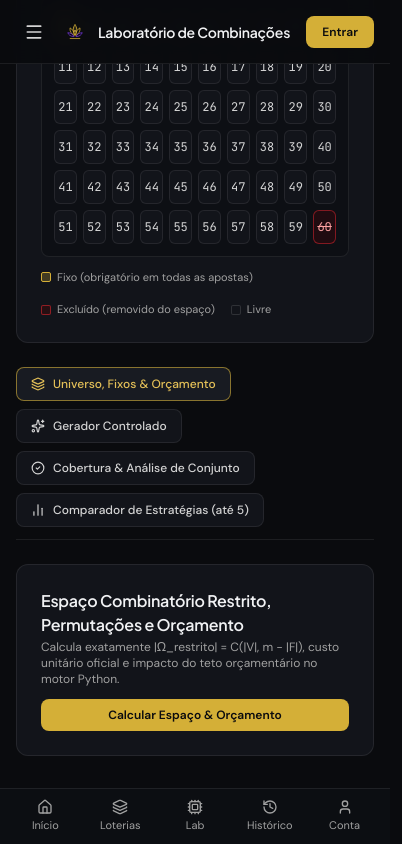
Test case: Unitários UI — Etapa 3: Laboratório de Combinações › opera matriz de fixos/excluídos, universo restrito, gerador controlado, cobertura e comparador de estratégias
Earlier steps of the test are not shown.
(page scrolled)
Expected: the button named "Dezena 60 (Excluída)" is shown, [313,210,336,244]
Click the button "Calcular Espaço & Orçamento".
click(195, 715)  # box [41,699,349,731]
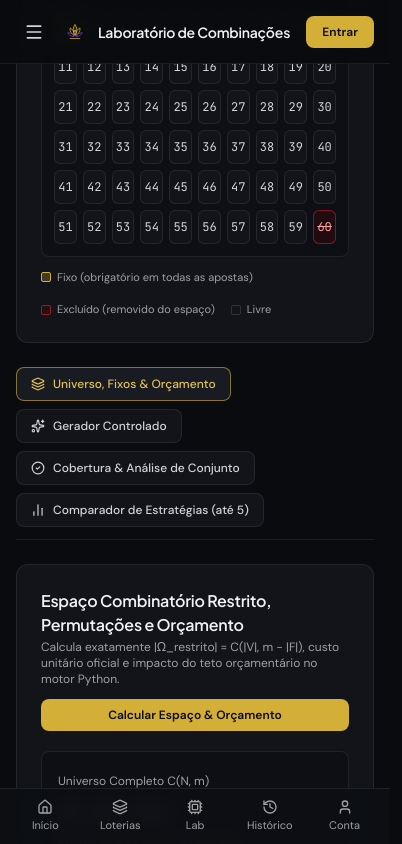
Click the tab "Gerador Controlado".
click(99, 426)  # box [16,409,182,443]
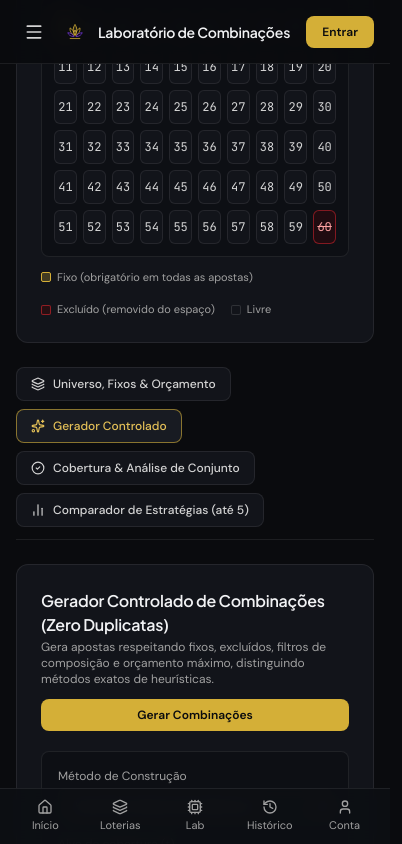
Click the button "Gerar Combinações".
click(195, 715)  # box [41,699,349,731]
(page scrolled)
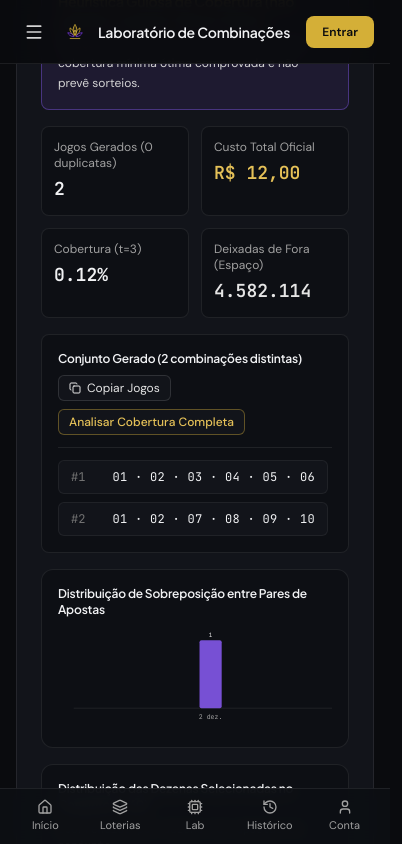
Click the button "Analisar Cobertura Completa".
click(152, 422)  # box [58,409,245,435]
(page scrolled)
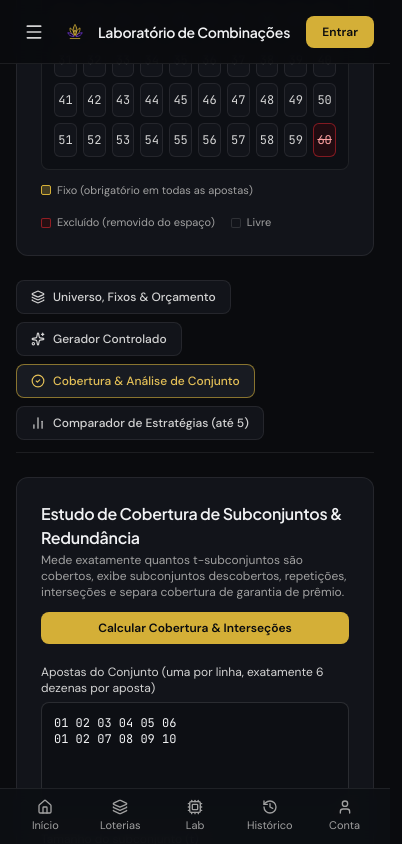
Click the tab "Comparador de Estratégias (até 5)".
click(140, 423)  # box [16,406,264,440]
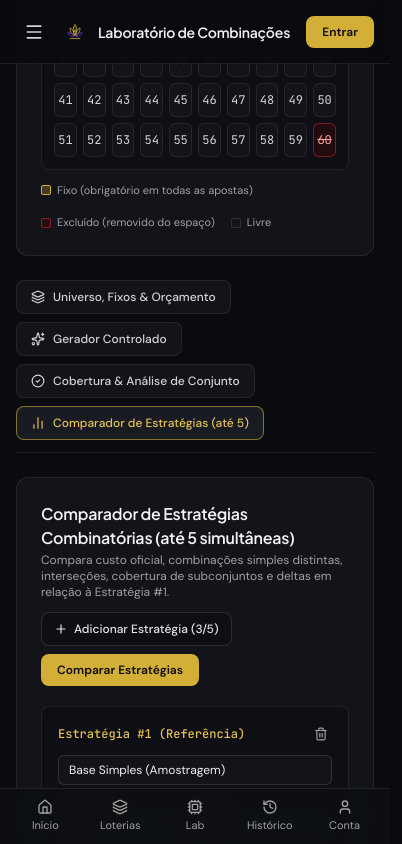
Click the button "Comparar Estratégias".
click(120, 670)  # box [41,654,199,686]
(page scrolled)
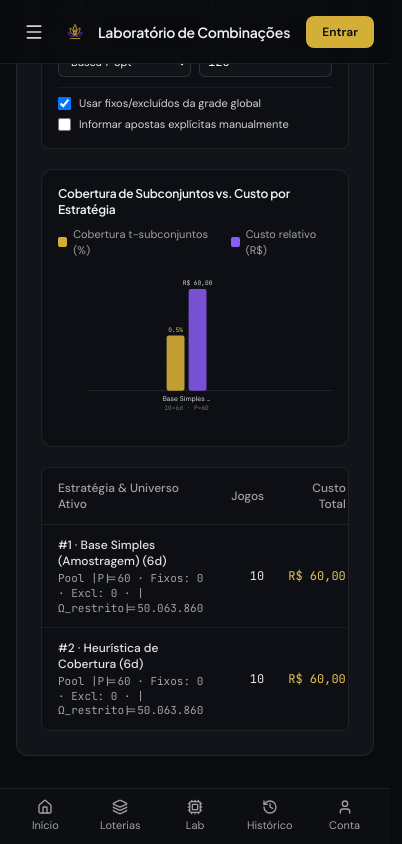
Now the picture named "Gráfico comparativo de cobertura e custo entre estratégias" is shown, box [58,271,332,430]
Now the text "#1 · Base Simples (Amostragem) (6d)" is shown, box [58,537,167,569]
